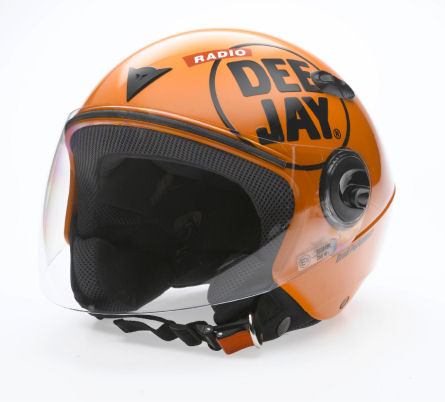helmet: (87, 39, 391, 313)
